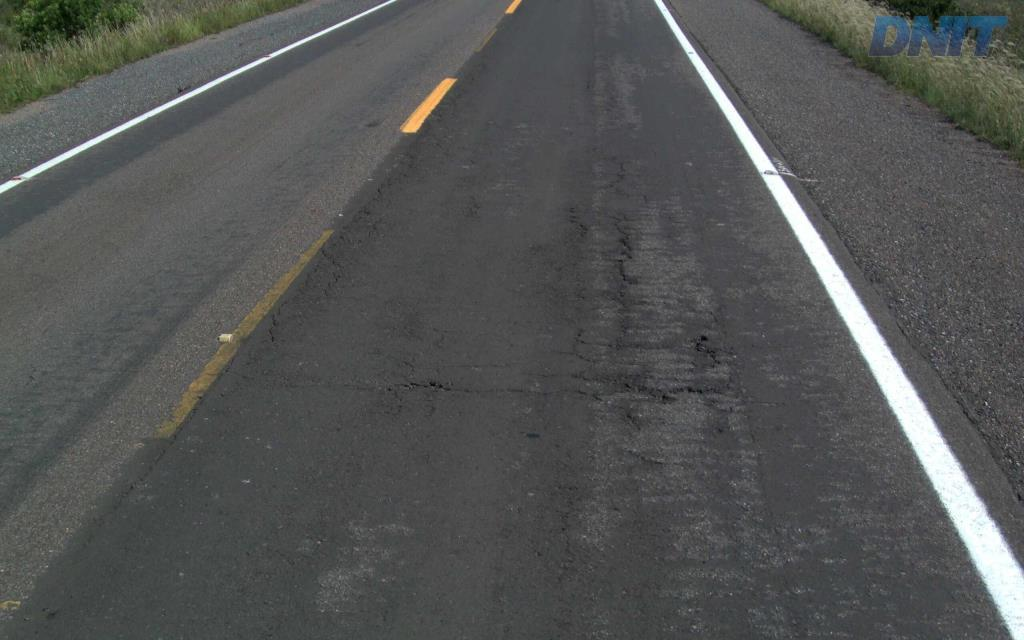crack: (617, 373, 676, 404)
